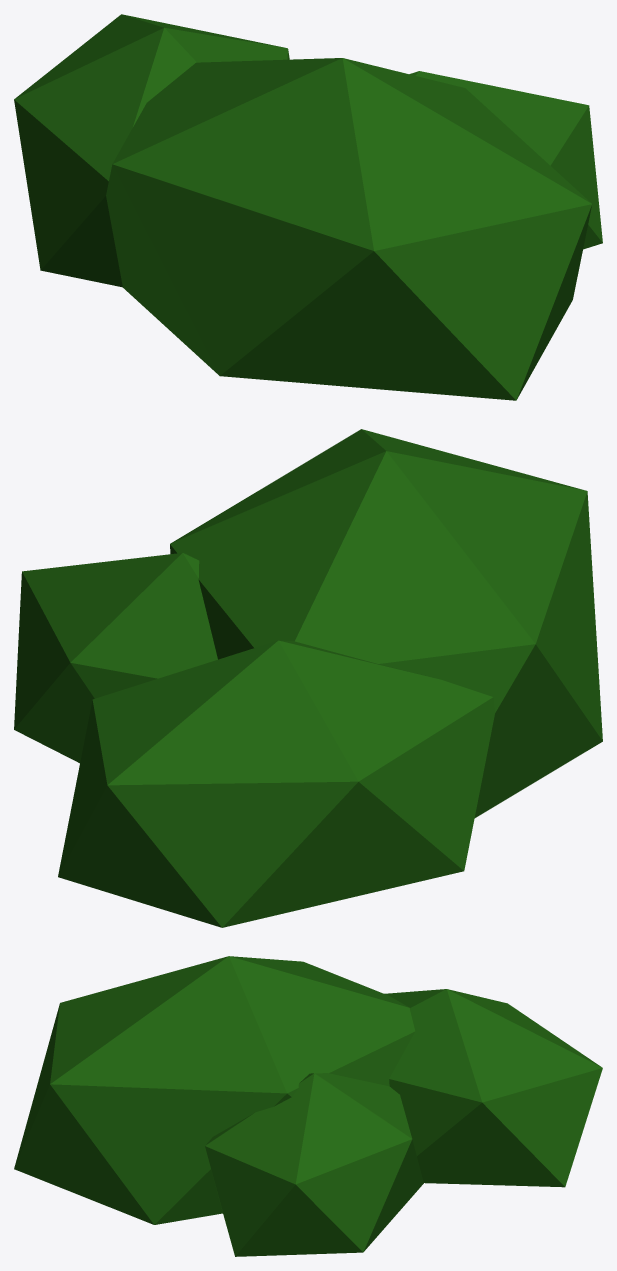
File: bush.glb
The picture shows the model from 3 angles, top to bottom: view 1: azimuth 30°, elevation 25°; view 2: azimuth 150°, elevation 25°; view 3: azimuth 270°, elevation 25°; orthographic projection. The views are drawn at different scales.
Visible parts, largest first — view 1: Icosphere.002; view 2: Icosphere.002; view 3: Icosphere.002.
Part boxes in pixels (<box>): Icosphere.002: <box>14,14,602,400</box>; Icosphere.002: <box>14,429,602,927</box>; Icosphere.002: <box>14,956,602,1256</box>.
Bounding box in the file's own units: 1.94 × 0.9894 × 2.65.
